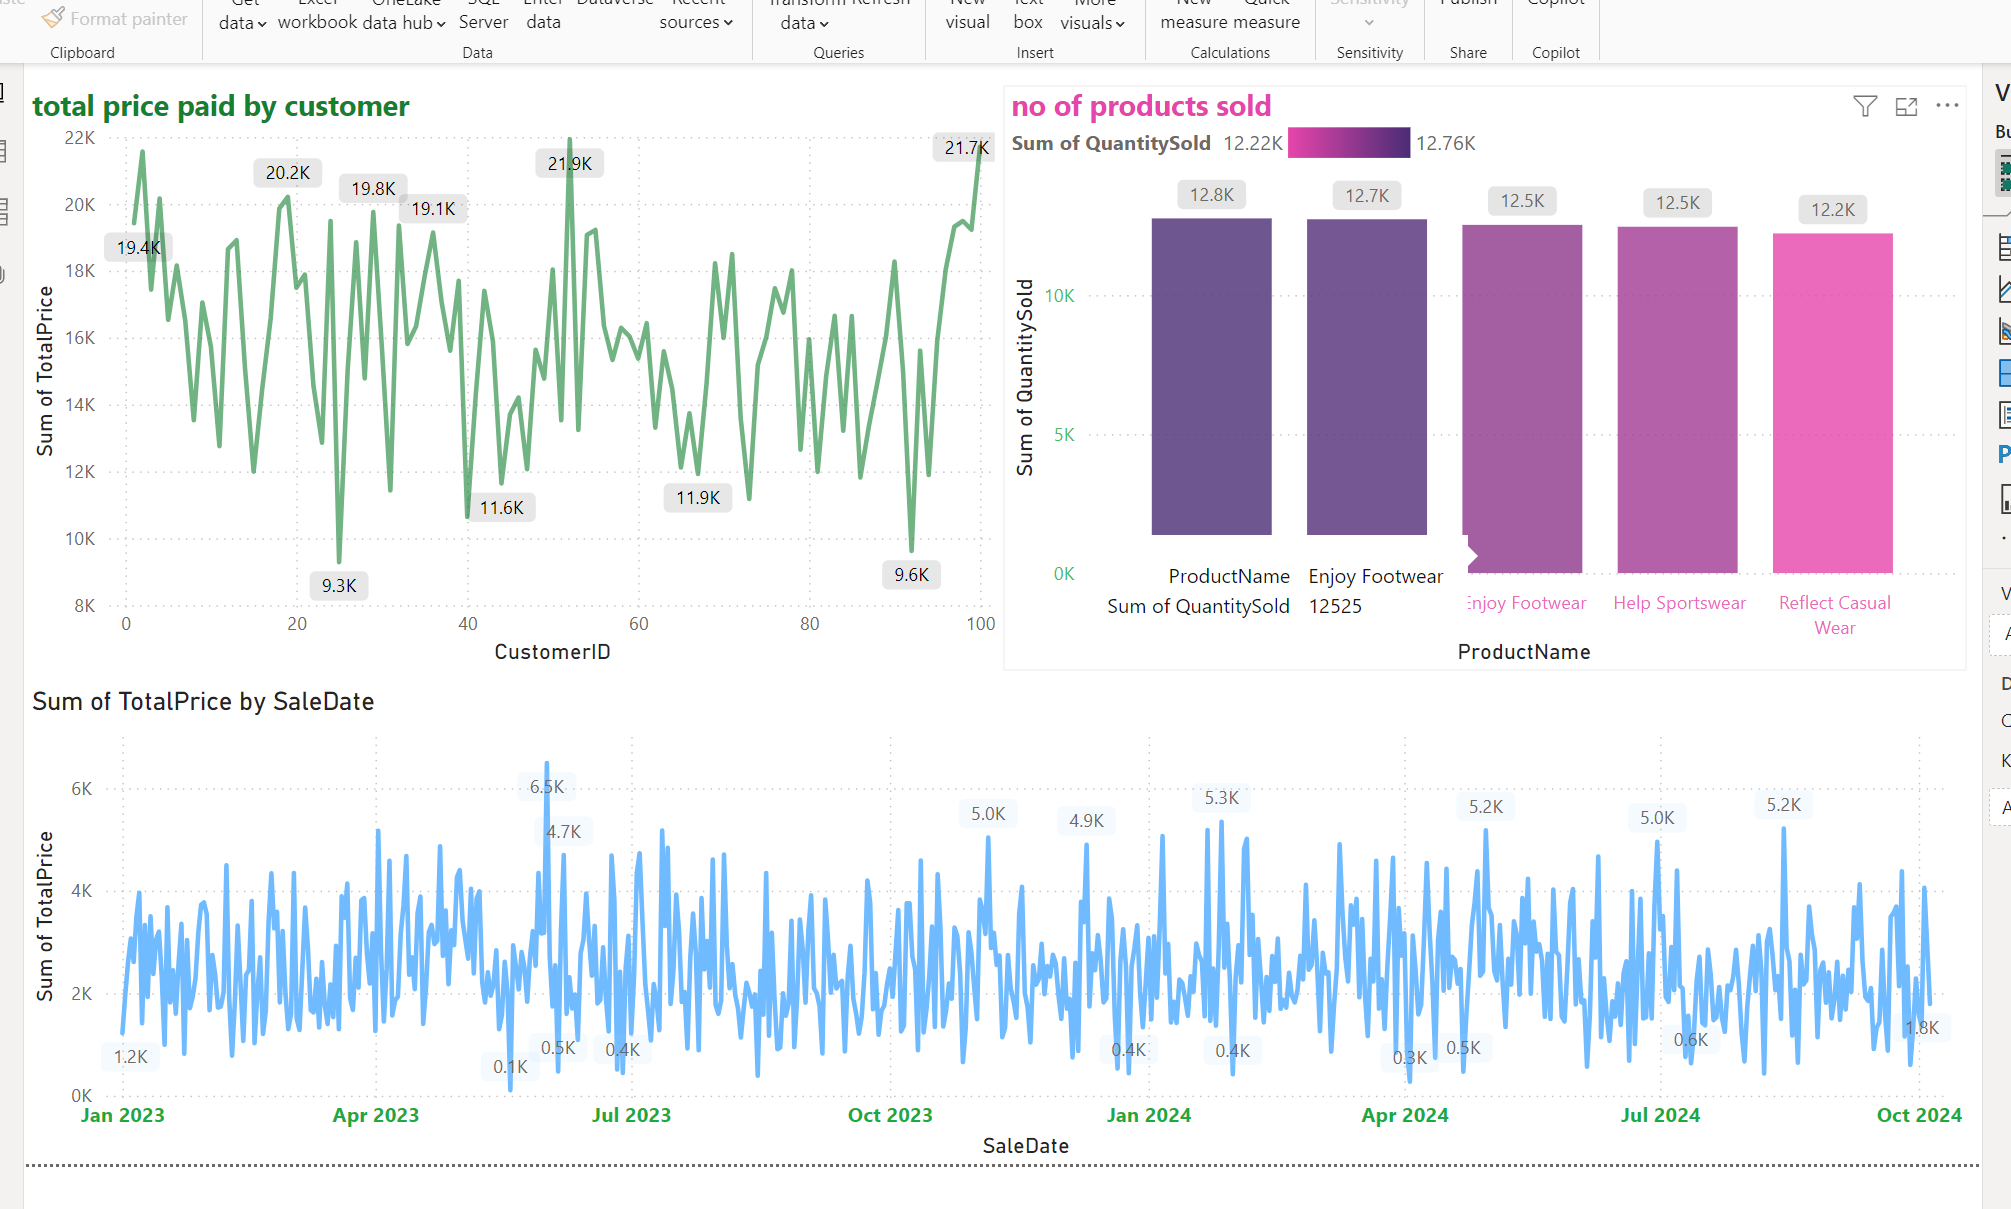

What the dashboard file says about the page in this screenshot:
{"tool":"powerbi","page":{"name":"Page 3","canvas":[1280,720],"ordinal":2},"visuals":[{"type":"lineChart","title":"total price paid by customer","fields":{"Category":["Sales.CustomerID"],"Y":["Sum(Sales.TotalPrice)"]},"box":[0,15.1,639.6,382.4],"z":0},{"type":"columnChart","title":"no of products sold ","fields":{"Category":["Product.ProductName"],"Y":["Sum(Sales.QuantitySold)"]},"box":[640.3,14.7,629.5,382.4],"z":1000},{"type":"lineChart","fields":{"Y":["Sum(Sales.TotalPrice)"],"Category":["Sales.SaleDate"]},"box":[0,406.9,1279.7,312.8],"z":2000}]}

Visuals, with their boxes on the page's 1280x720 design canvas (x1, y1, x2, y2). These are canvas units, not pixel positions in the 2011x1209 screenshot, which may show the page scaled, cropped or inside an application window:
"total price paid by customer" lineChart: [0, 15, 640, 398]
"no of products sold " columnChart: [640, 15, 1270, 397]
lineChart - Sum(Sales.TotalPrice) x Sales.SaleDate: [0, 407, 1280, 720]
